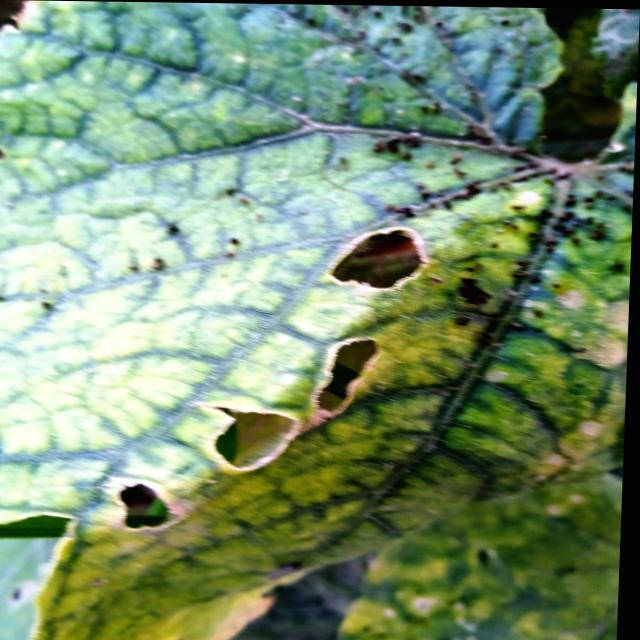Anthracnose: (324, 214, 429, 301), (204, 398, 308, 480), (308, 329, 382, 417), (113, 480, 178, 539)
